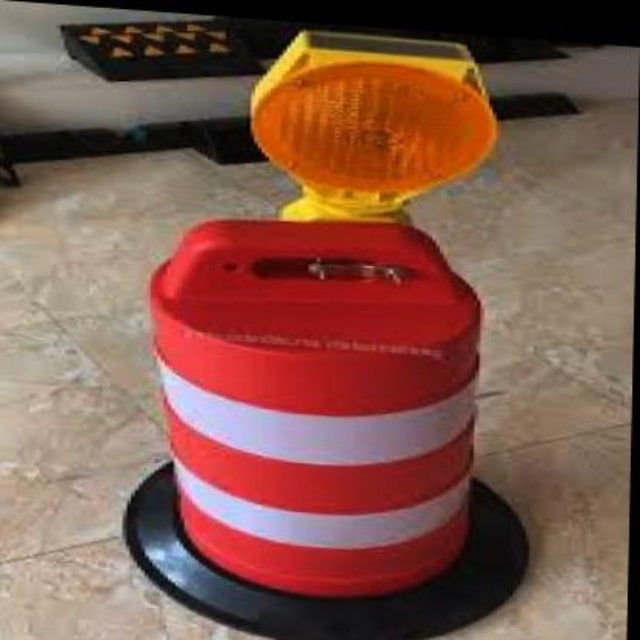obstacle: (128, 210, 510, 606)
